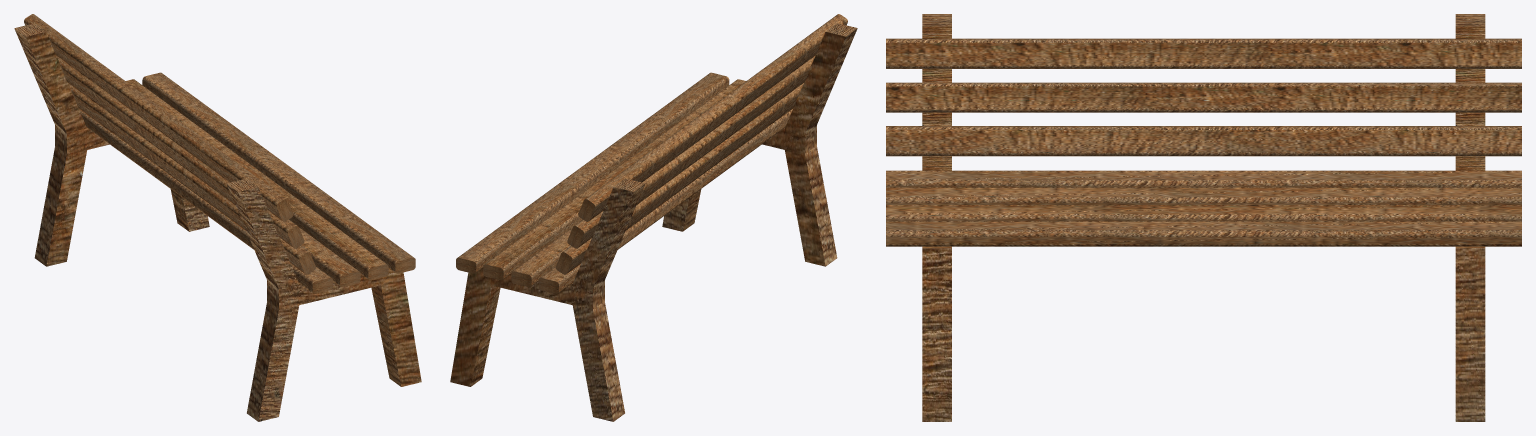
The model's file is bench.fbx.
3 views of the same model, side by side, from view 1: azimuth 30°, elevation 25°; view 2: azimuth 150°, elevation 25°; view 3: azimuth 270°, elevation 25° (orthographic). The views are drawn at different scales.
Parts seen in each view (by area): view 1: polySurface1, polySurface2, pCube1, pCube7, pCube2, pCube6, pCube5, pCube4, pCube3; view 2: polySurface2, polySurface1, pCube1, pCube7, pCube2, pCube6, pCube5, pCube4, pCube3; view 3: pCube5, pCube6, pCube7, pCube1, pCube3, pCube4, pCube2, polySurface2, polySurface1.
Part boxes in pixels (<box>): polySurface1: <box>226,178,421,421</box>; polySurface2: <box>14,23,209,266</box>; pCube1: <box>142,72,415,273</box>; pCube7: <box>24,14,293,221</box>; pCube2: <box>126,79,388,280</box>; pCube6: <box>56,56,304,248</box>; pCube5: <box>68,83,315,274</box>; pCube4: <box>79,109,332,293</box>; pCube3: <box>299,227,360,287</box>; polySurface2: <box>450,178,645,421</box>; polySurface1: <box>662,23,857,266</box>; pCube1: <box>456,72,729,273</box>; pCube7: <box>578,14,847,221</box>; pCube2: <box>483,79,745,280</box>; pCube6: <box>567,56,815,248</box>; pCube5: <box>555,83,803,274</box>; pCube4: <box>538,109,792,293</box>; pCube3: <box>511,227,572,287</box>; pCube5: <box>886,126,1521,156</box>; pCube6: <box>886,82,1521,112</box>; pCube7: <box>886,38,1521,68</box>; pCube1: <box>886,221,1521,246</box>; pCube3: <box>886,187,1521,204</box>; pCube4: <box>886,170,1521,187</box>; pCube2: <box>886,205,1521,221</box>; polySurface2: <box>1455,14,1485,421</box>; polySurface1: <box>922,14,951,421</box>.
Bounding box in the file's own units: 9 × 11 × 21.46.
